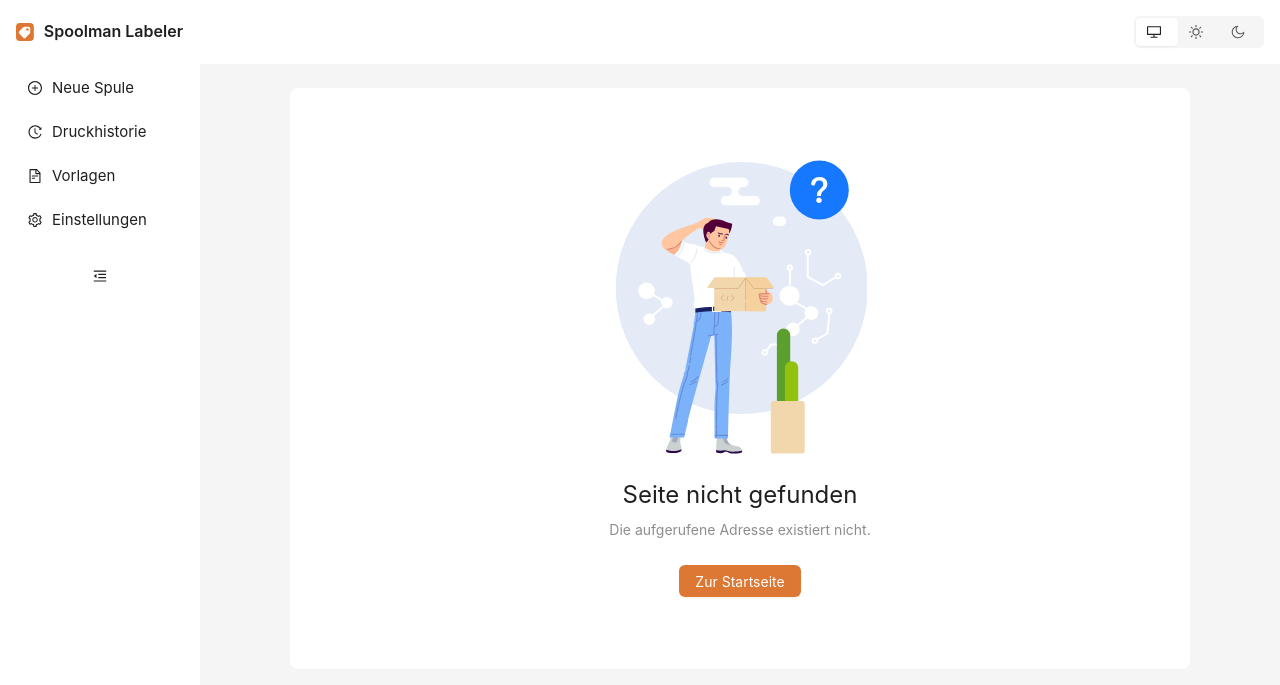
Test: Navigation › zeigt fuer unbekannte Pfade die 404-Seite mit Rueckweg
Expected: the text "Seite nicht gefunden" is shown, [622,480,857,509]
Click the link "Zur Startseite".
click(740, 581)  # box [679,572,801,590]
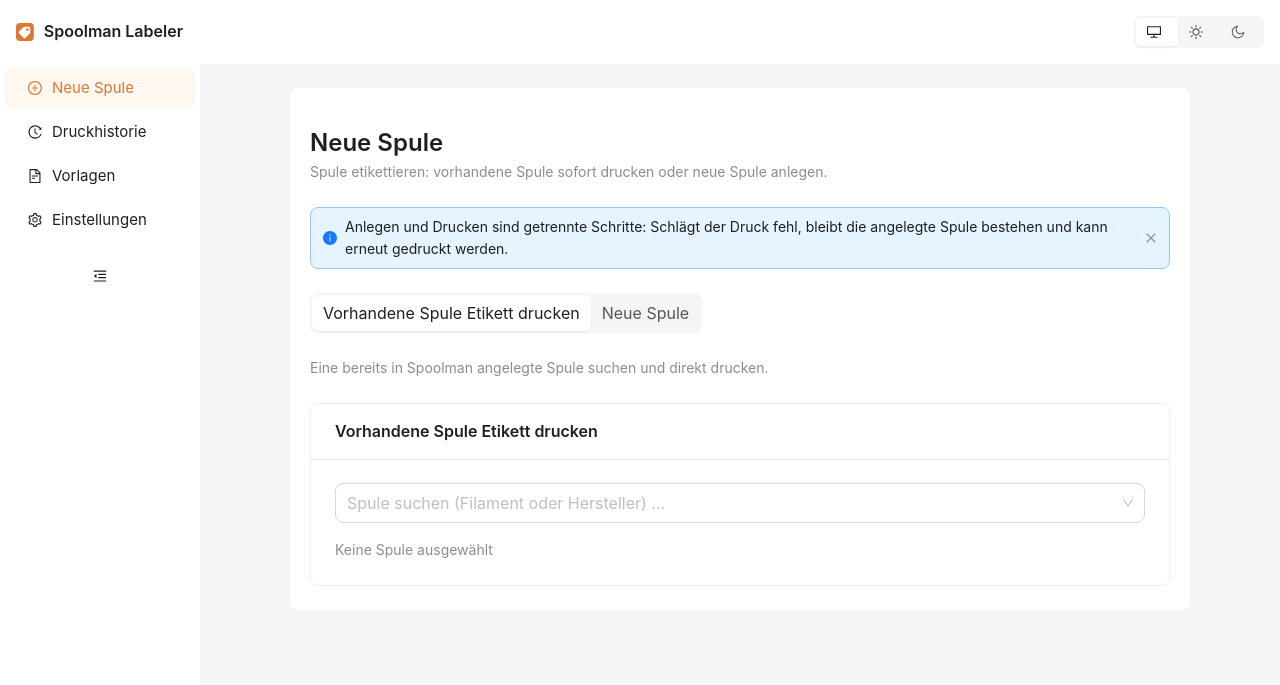
Expected: the heading "Neue Spule" is shown, [310,128,443,157]
